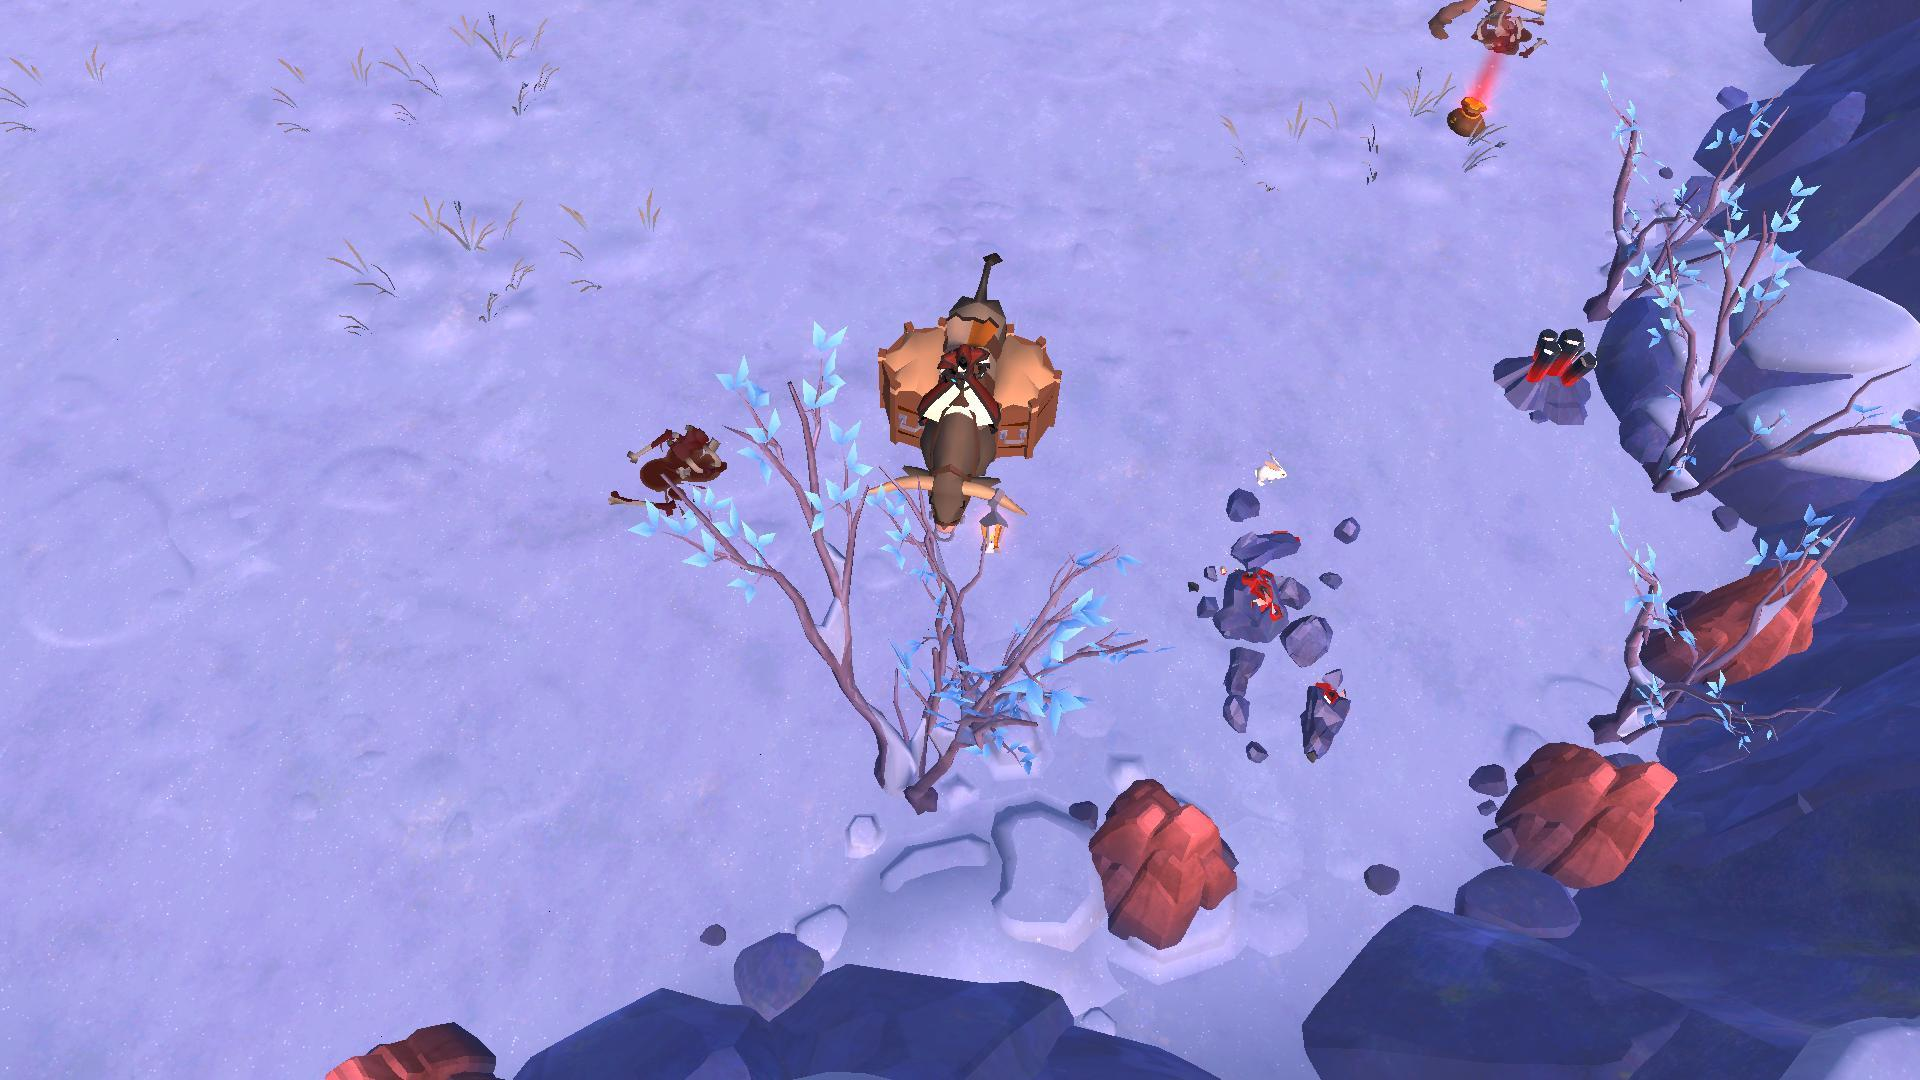ore_t5: (1524, 324, 1600, 385)
rock_t5: (1069, 774, 1234, 965), (1638, 554, 1826, 704), (1503, 733, 1673, 890), (306, 1023, 502, 1080)
